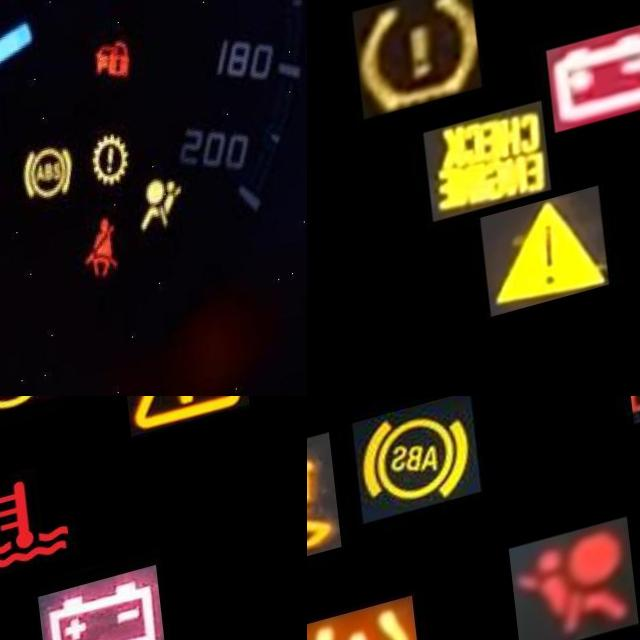Central Warning lamp: (469, 201, 596, 326), (113, 396, 240, 459)
Engine cooling system: (0, 465, 77, 608)
